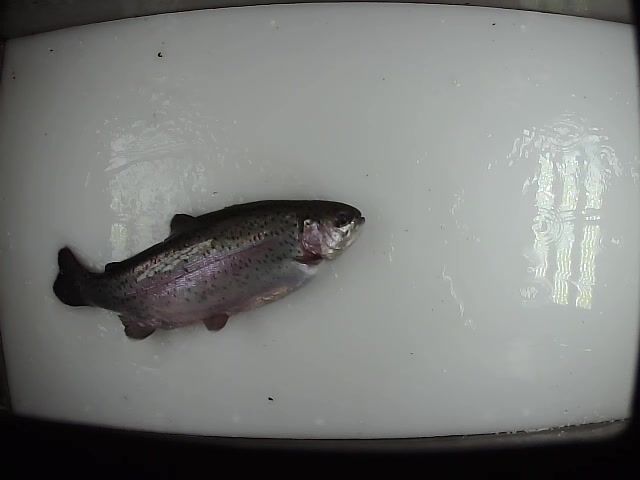fish: (50, 195, 366, 342)
